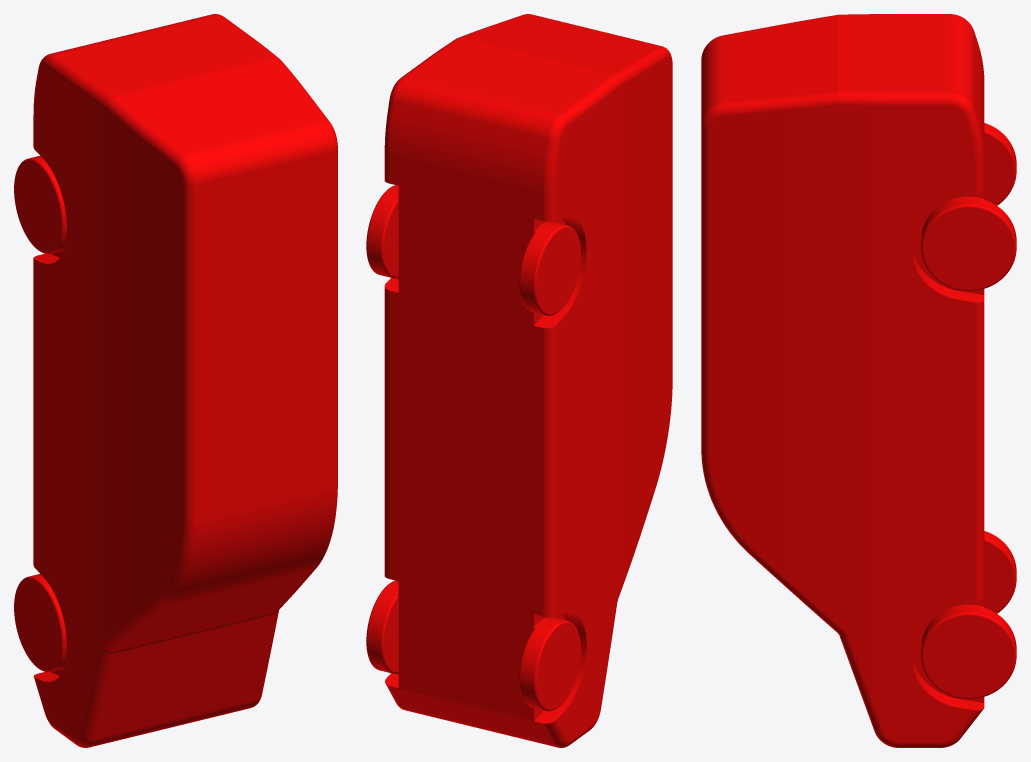
Rendered from sprinter.gltf.
3 views of the same model, side by side, from view 1: azimuth 30°, elevation 25°; view 2: azimuth 150°, elevation 25°; view 3: azimuth 270°, elevation 25° (orthographic). The views are drawn at different scales.
Parts seen in each view (by area): view 1: Part 1; view 2: Part 1; view 3: Part 1.
Boxes of the visible parts, left/top/right/bottom form: Part 1: left=14, top=14, right=337, bottom=747; Part 1: left=366, top=14, right=672, bottom=747; Part 1: left=701, top=14, right=1016, bottom=747.
Bounding box in the file's own units: 1.95 × 6.94 × 3.03.
